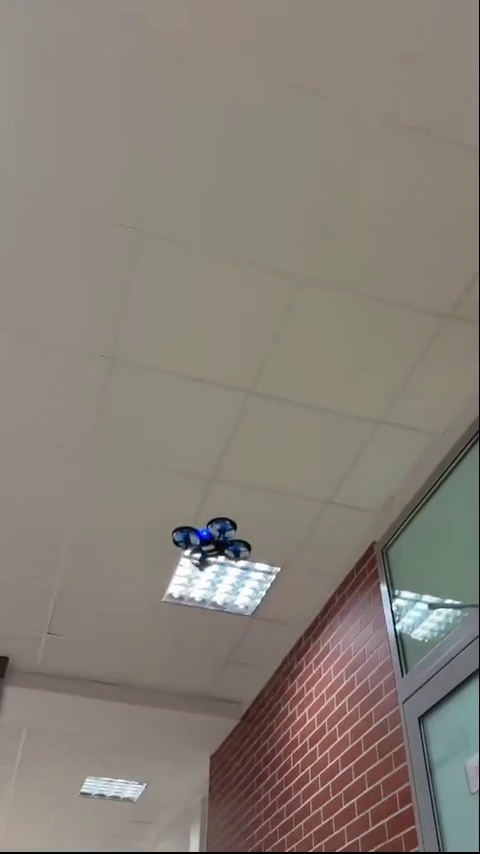drone: (170, 520, 256, 568)
